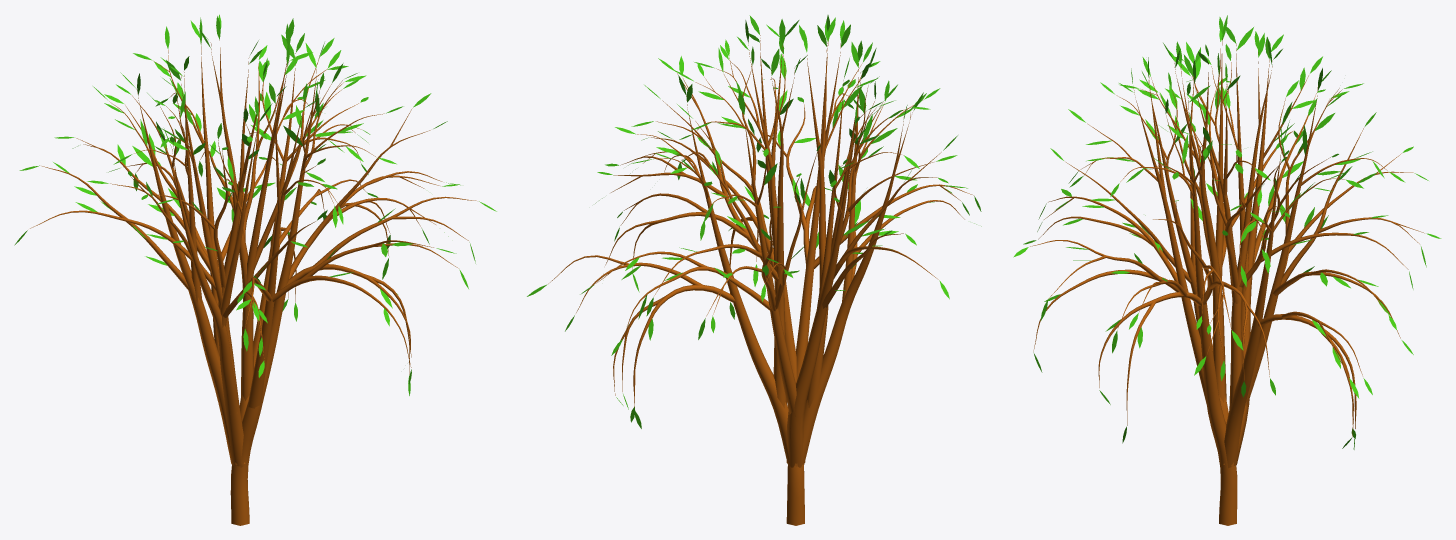
File: arbolito_despues_de_abonarlo.fbx
3 views of the same model, side by side, from view 1: azimuth 30°, elevation 25°; view 2: azimuth 150°, elevation 25°; view 3: azimuth 270°, elevation 25° (orthographic).
Parts seen in each view (by area): view 1: tree, leaves; view 2: tree, leaves; view 3: tree, leaves.
Boxes of the visible parts, bbox=[...] form: tree: bbox=[30, 39, 476, 525]; leaves: bbox=[14, 14, 496, 395]; tree: bbox=[548, 35, 973, 525]; leaves: bbox=[527, 15, 981, 428]; tree: bbox=[1030, 38, 1424, 525]; leaves: bbox=[1013, 15, 1441, 449].
Bounding box in the file's own units: 715 × 837 × 672.
